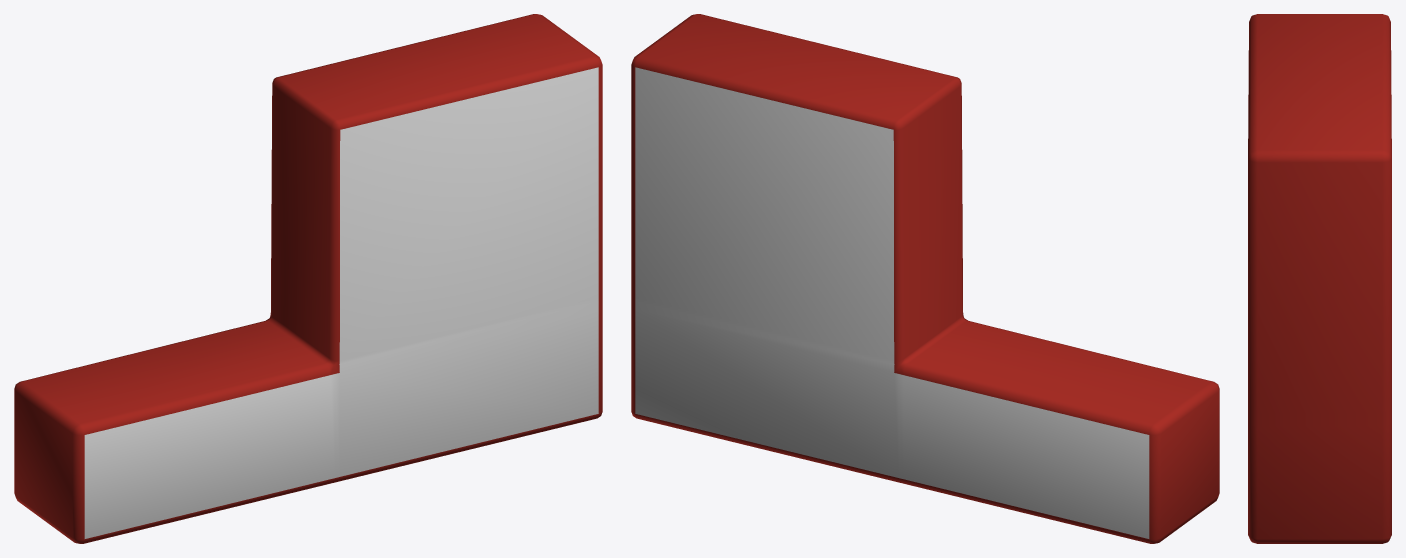
File: WallJump.fbx
The picture shows the model from 3 angles, left to right: view 1: azimuth 30°, elevation 25°; view 2: azimuth 150°, elevation 25°; view 3: azimuth 270°, elevation 25°; orthographic projection. The views are drawn at different scales.
Visible parts, largest first — view 1: Cube; view 2: Cube; view 3: Cube.
Boxes of the visible parts, x1,y1,x2,y2 form: Cube: (14, 14, 602, 543); Cube: (631, 14, 1219, 543); Cube: (1248, 14, 1391, 543).
Bounding box in the file's own units: 922 × 604 × 200.
